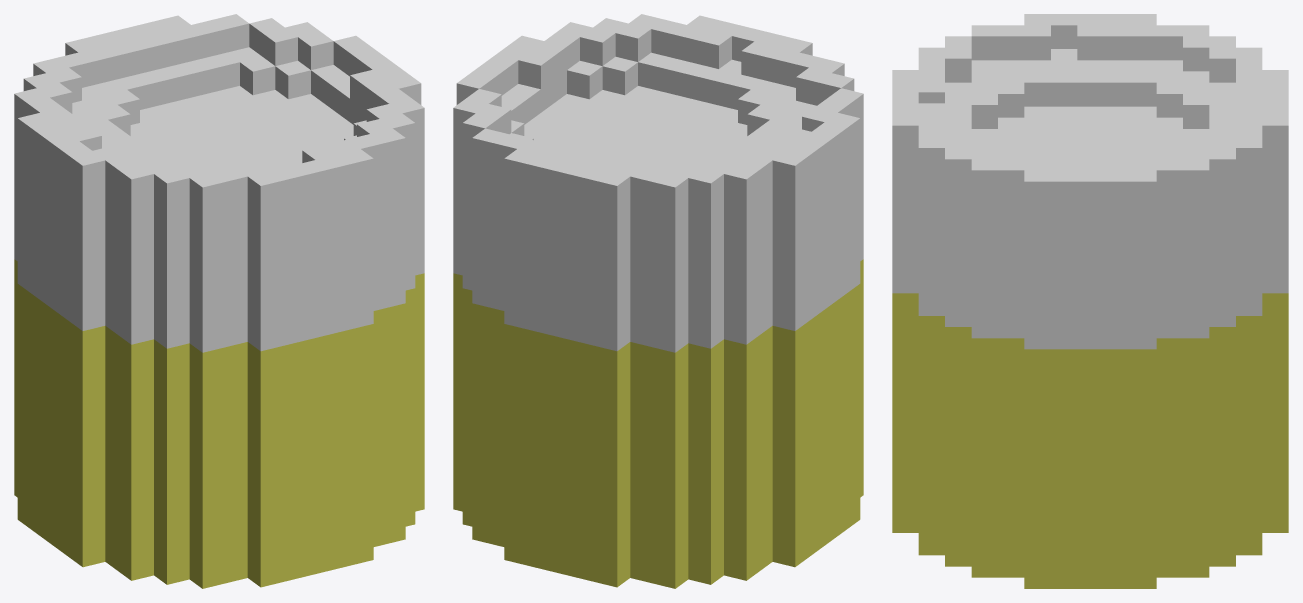
File: beer-0.obj
3 renders of one model, left to right at view 1: azimuth 30°, elevation 25°; view 2: azimuth 150°, elevation 25°; view 3: azimuth 270°, elevation 25°, orthographic.
Size of the model in its own units: 1.5 by 1.8 by 1.5.
Materials: 1 (1 with a texture image).
